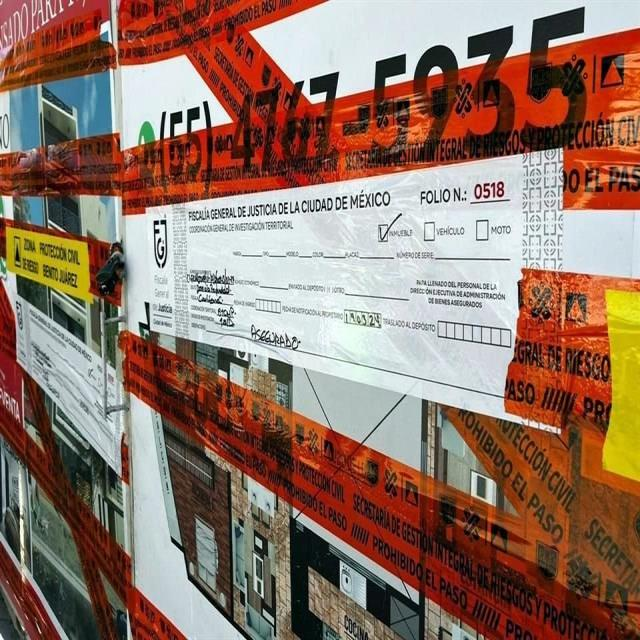stamps: (146, 149, 559, 416)
